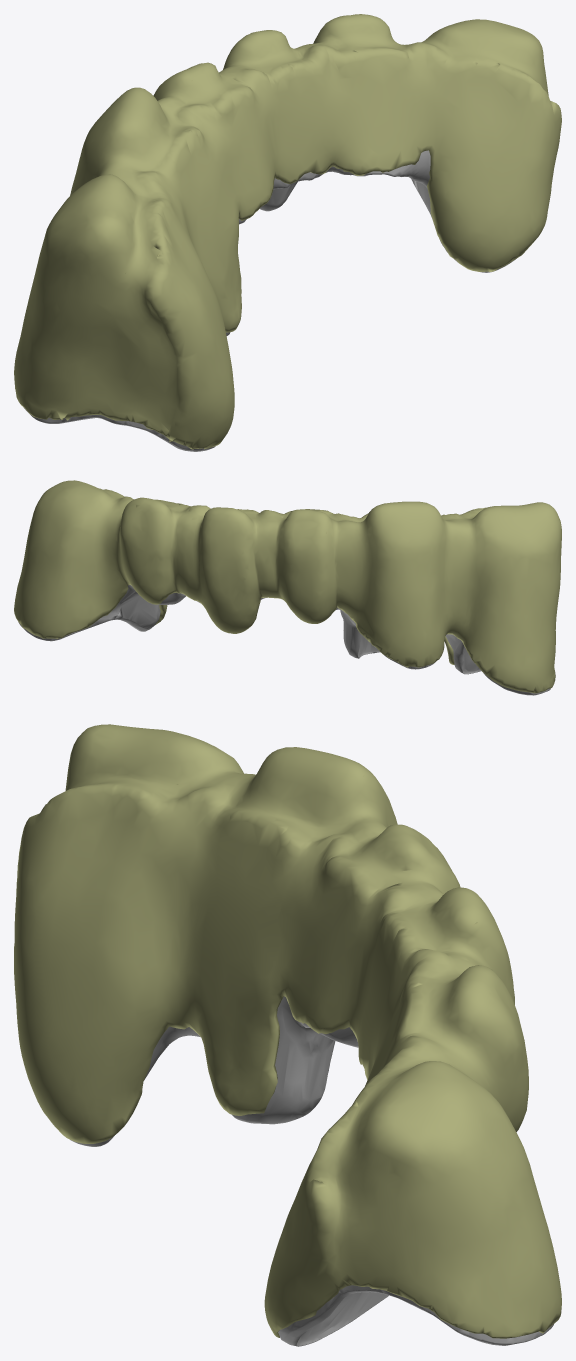
Rendered from tooth2.glb.
The picture shows the model from 3 angles, top to bottom: view 1: azimuth 30°, elevation 25°; view 2: azimuth 150°, elevation 25°; view 3: azimuth 270°, elevation 25°; orthographic projection. The views are drawn at different scales.
Visible parts, largest first — view 1: 瓷牙, 2026-02-02_00011-007-33-32-31-41-42-43-bridge_slm_cad; view 2: 瓷牙, 2026-02-02_00011-007-33-32-31-41-42-43-bridge_slm_cad; view 3: 瓷牙, 2026-02-02_00011-007-33-32-31-41-42-43-bridge_slm_cad.
Part boxes in pixels (x1,y1,x2,y2): 瓷牙: (14, 14, 561, 449); 2026-02-02_00011-007-33-32-31-41-42-43-bridge_slm_cad: (23, 150, 516, 451); 瓷牙: (14, 480, 561, 693); 2026-02-02_00011-007-33-32-31-41-42-43-bridge_slm_cad: (18, 585, 550, 695); 瓷牙: (14, 724, 561, 1338); 2026-02-02_00011-007-33-32-31-41-42-43-bridge_slm_cad: (70, 996, 553, 1346).
Size of the model in its own units: 0.6531 by 0.2933 by 0.3663.
2 materials, 1 textured.
